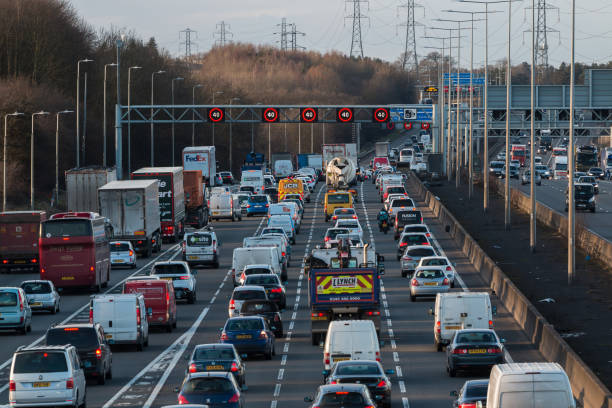bus: (41, 216, 110, 291)
car: (10, 346, 85, 404), (46, 325, 113, 380), (324, 320, 379, 381), (434, 294, 493, 348), (89, 297, 147, 349), (124, 281, 177, 332), (448, 331, 504, 378), (333, 360, 390, 403), (180, 372, 240, 408), (189, 344, 242, 384), (221, 319, 272, 360), (152, 262, 196, 304), (233, 247, 279, 283), (310, 383, 375, 408), (18, 280, 59, 316), (241, 300, 282, 335), (1, 287, 31, 333), (244, 235, 287, 267), (181, 232, 221, 266), (245, 275, 286, 308), (410, 268, 449, 302), (418, 255, 455, 288), (228, 287, 266, 319), (401, 245, 435, 276), (456, 377, 489, 408), (207, 192, 242, 221), (568, 182, 595, 212), (109, 240, 137, 268), (397, 233, 427, 258), (336, 218, 363, 243), (389, 197, 414, 224), (395, 210, 423, 234), (270, 215, 295, 240), (405, 224, 433, 246), (326, 192, 351, 216), (380, 174, 405, 197), (332, 206, 358, 226), (324, 228, 347, 250), (246, 196, 272, 215), (383, 185, 405, 206), (579, 174, 600, 196), (502, 163, 520, 180), (521, 168, 538, 184), (489, 160, 505, 177), (588, 168, 604, 181), (538, 163, 550, 179), (218, 171, 233, 183)
truck: (309, 252, 380, 338), (101, 180, 160, 257), (132, 170, 186, 237), (65, 170, 118, 220), (2, 212, 46, 272), (183, 147, 218, 190), (322, 143, 358, 184), (180, 167, 205, 224), (576, 144, 602, 180), (272, 152, 292, 180), (242, 153, 264, 178), (511, 142, 526, 168), (554, 155, 568, 178), (375, 140, 390, 159), (539, 134, 553, 151)
